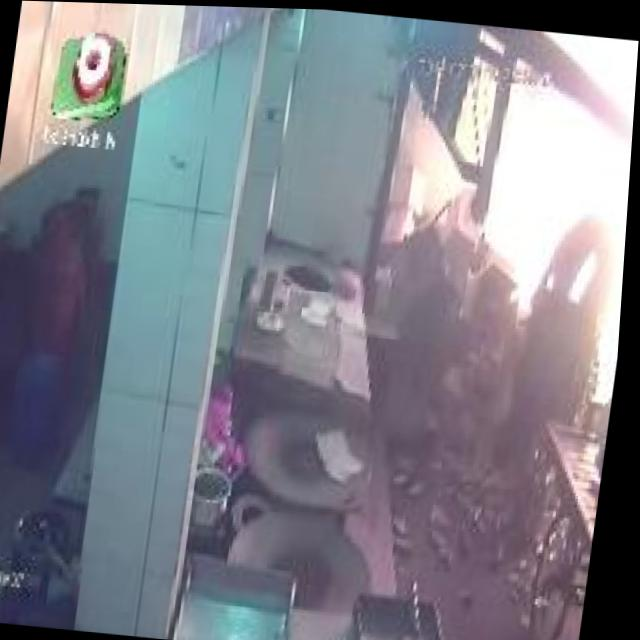fire: (451, 25, 639, 411)
